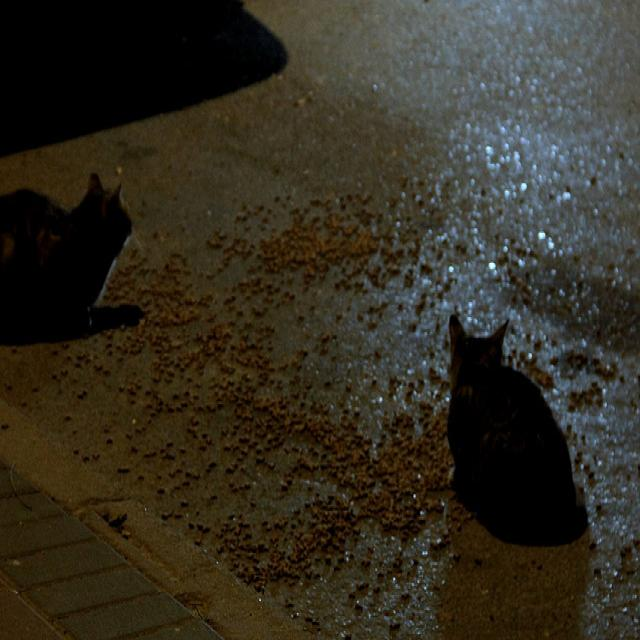Cat: (443, 304, 584, 575), (0, 155, 151, 387)
